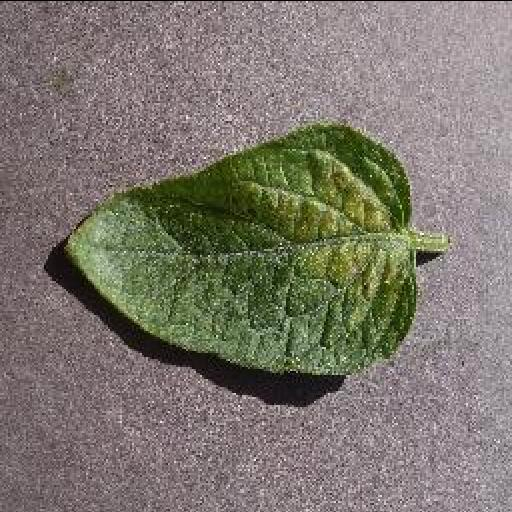disease_tomato: (62, 125, 416, 375)
